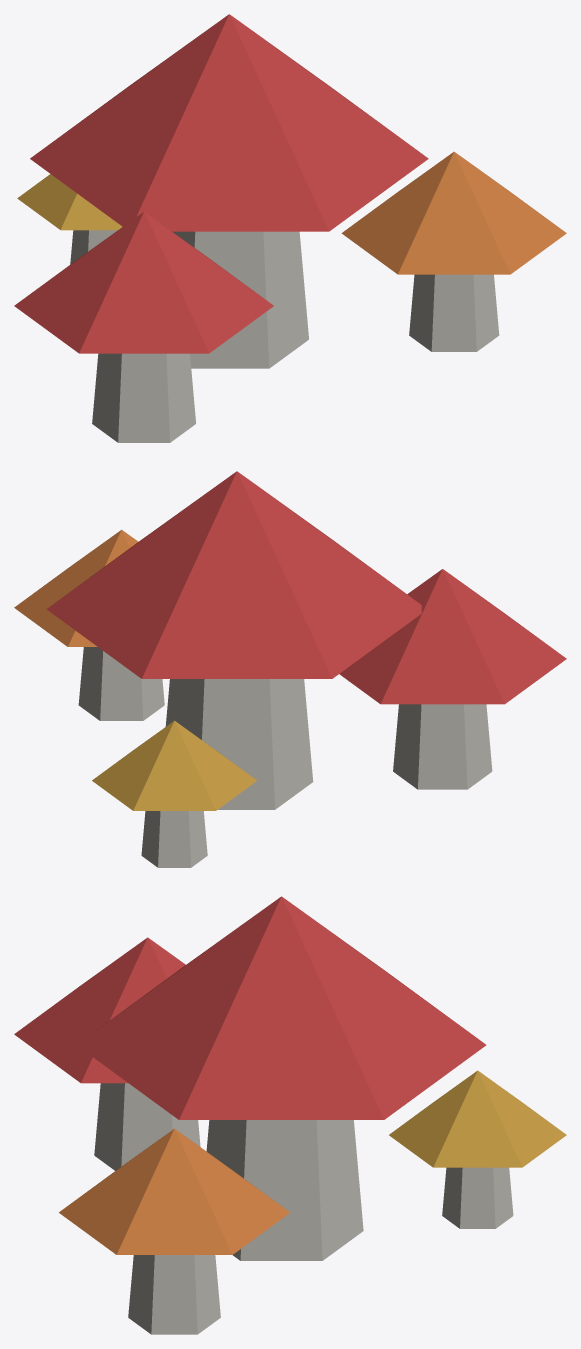
File: mushroom-patch.glb
The picture shows the model from 3 angles, top to bottom: view 1: azimuth 30°, elevation 25°; view 2: azimuth 150°, elevation 25°; view 3: azimuth 270°, elevation 25°; orthographic projection. The views are drawn at different scales.
Parts seen in each view (by area): view 1: mushroom_patch; view 2: mushroom_patch; view 3: mushroom_patch.
Boxes of the visible parts, <box> form: mushroom_patch: <box>14,14,566,442</box>; mushroom_patch: <box>14,471,566,867</box>; mushroom_patch: <box>14,896,566,1334</box>.
Bounding box in the file's own units: 0.3362 × 0.207 × 0.31.
